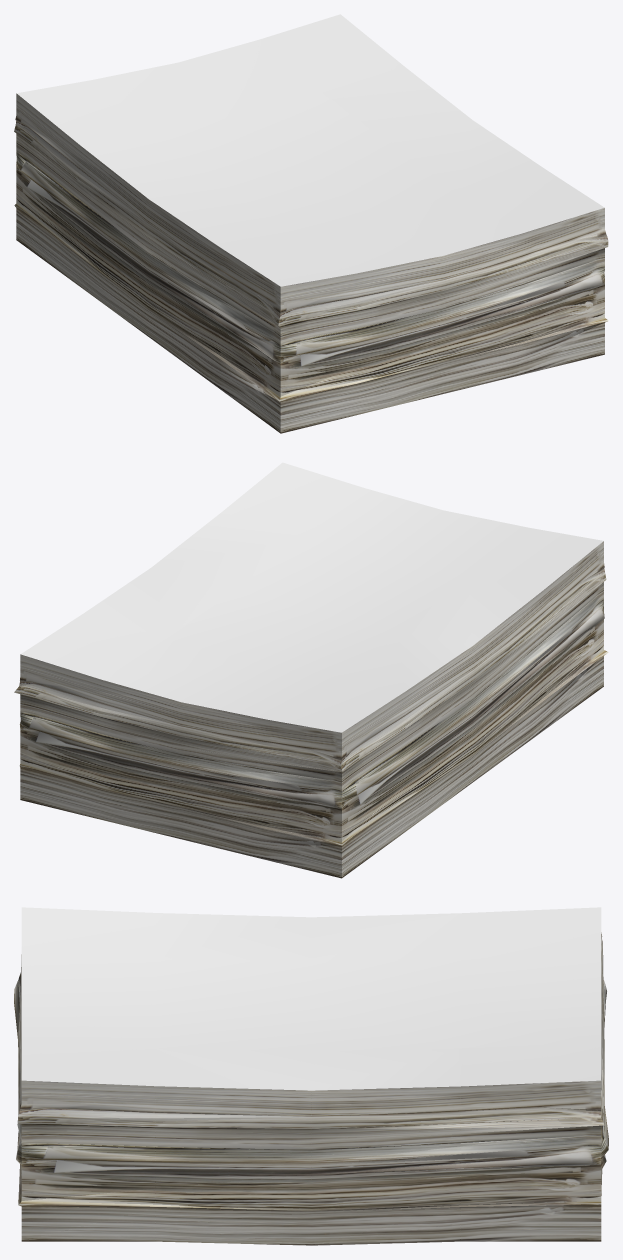
Rendered from Stack_Of_Paper.fbx.
3 views of the same model, one above another, from view 1: azimuth 30°, elevation 25°; view 2: azimuth 150°, elevation 25°; view 3: azimuth 270°, elevation 25° (orthographic). The views are drawn at different scales.
Parts seen in each view (by area): view 1: Stack_Of_Paper; view 2: Stack_Of_Paper; view 3: Stack_Of_Paper.
Part boxes in pixels (x1,y1,x2,y2): Stack_Of_Paper: (14,14,608,433); Stack_Of_Paper: (14,462,608,878); Stack_Of_Paper: (14,907,608,1245).
Size of the model in its own units: 21.49 by 9.21 by 30.08.
Materials: 1 (1 with a texture image).
